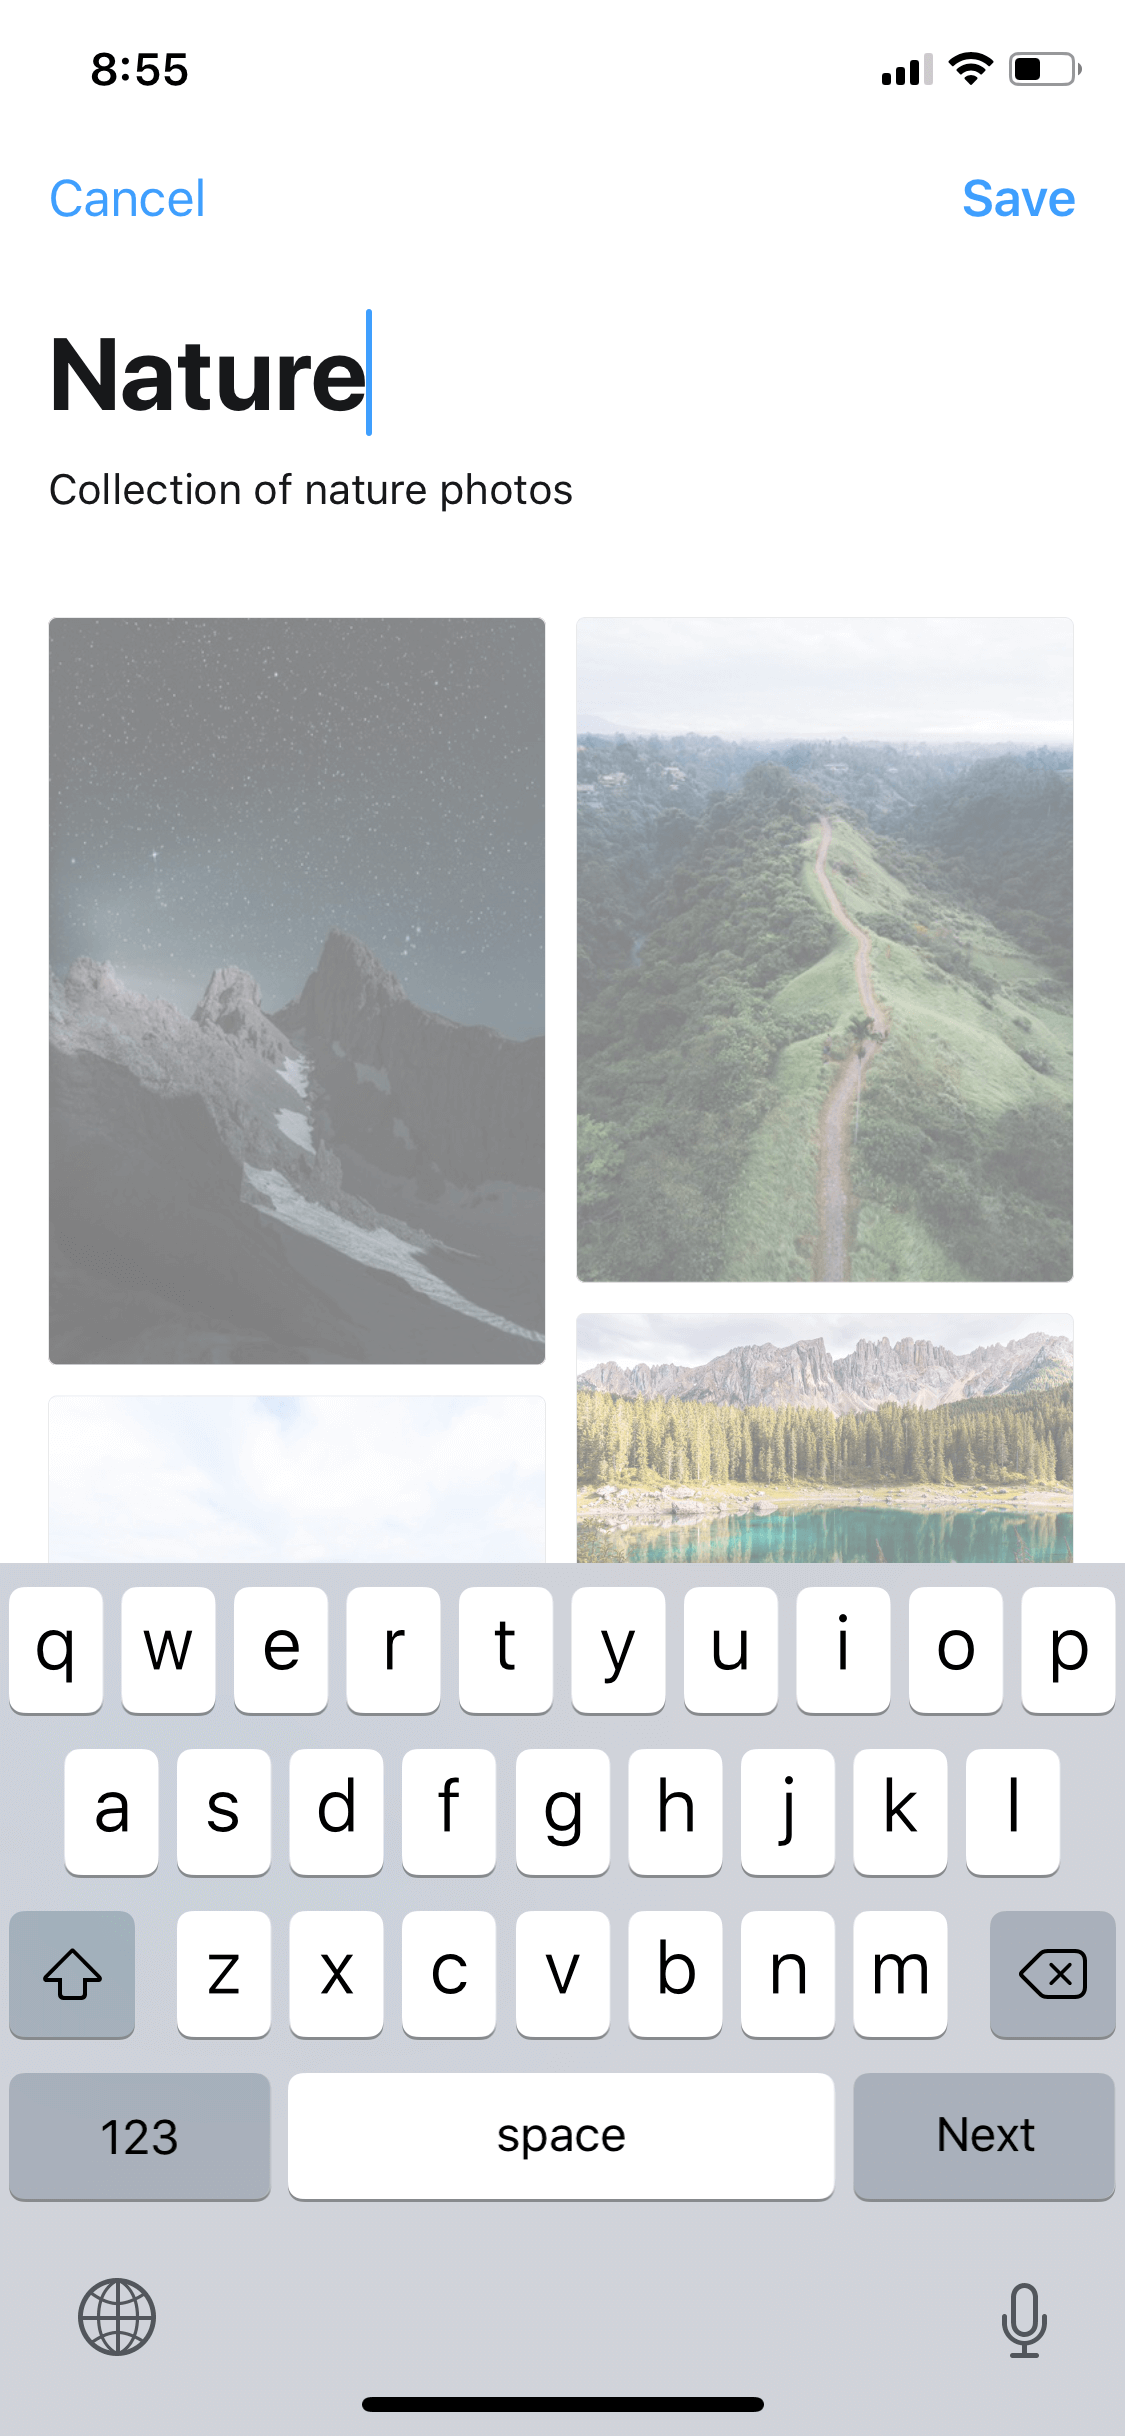Buttons: (26, 138, 236, 244), (907, 140, 1106, 245)
Text Fields: (26, 287, 1103, 460)
